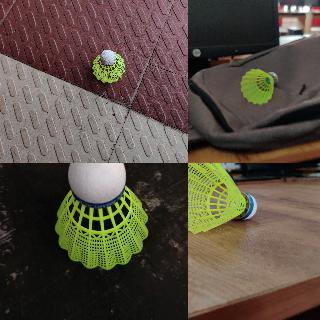shuttlecock: (55, 163, 148, 269), (188, 163, 257, 234), (240, 68, 276, 104), (92, 49, 125, 83)
